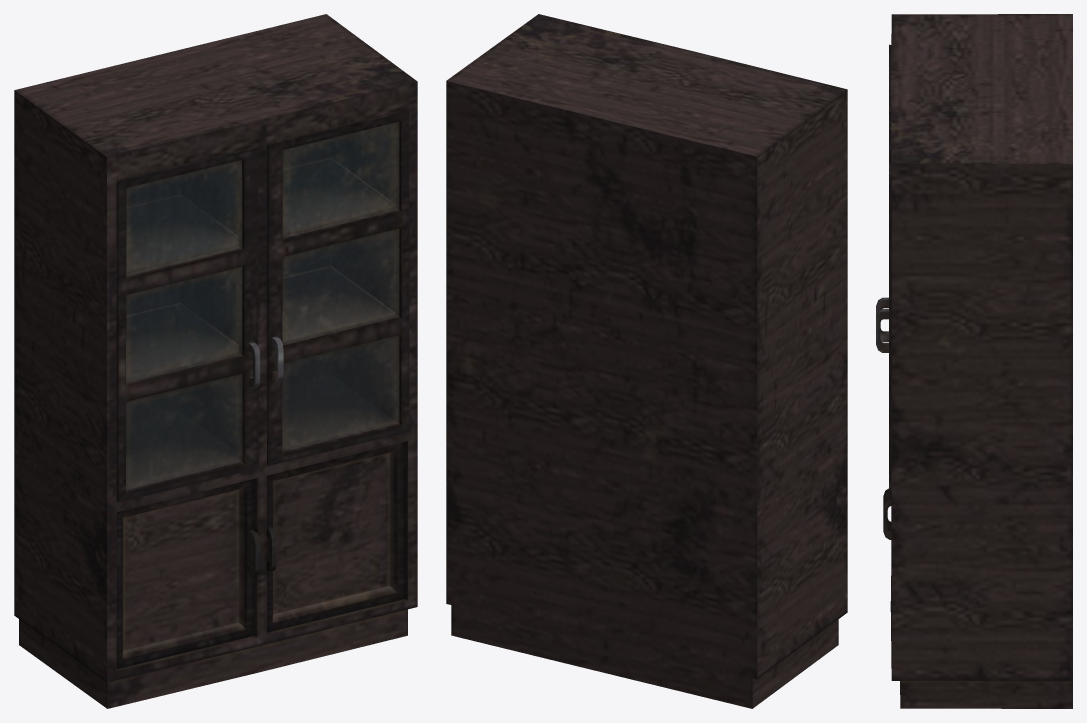
Rendered from WoodSupplyCab.FBX.
3 views of the same model, side by side, from view 1: azimuth 30°, elevation 25°; view 2: azimuth 150°, elevation 25°; view 3: azimuth 270°, elevation 25° (orthographic).
Parts seen in each view (by area): view 1: WoodSupplyCab; view 2: WoodSupplyCab; view 3: WoodSupplyCab.
Part boxes in pixels (<box>): WoodSupplyCab: <box>14,14,417,708</box>; WoodSupplyCab: <box>446,14,847,708</box>; WoodSupplyCab: <box>876,14,1072,708</box>.
Bounding box in the file's own units: 119 × 203 × 66.25.
